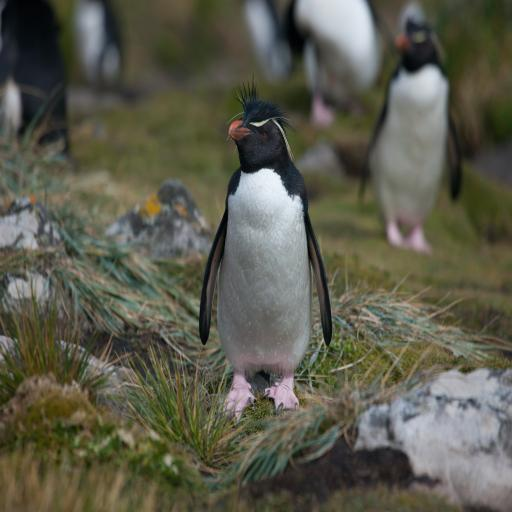Animal-Detection: (199, 85, 332, 420), (361, 2, 462, 253)
